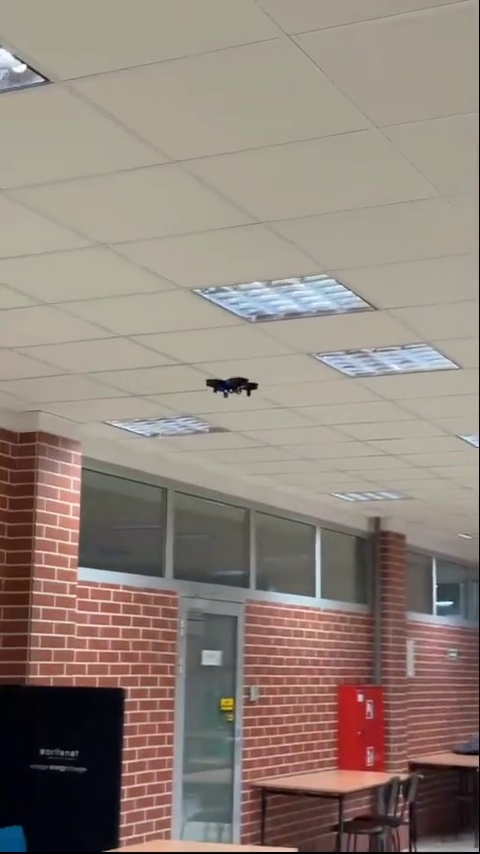drone: (204, 374, 261, 400)
